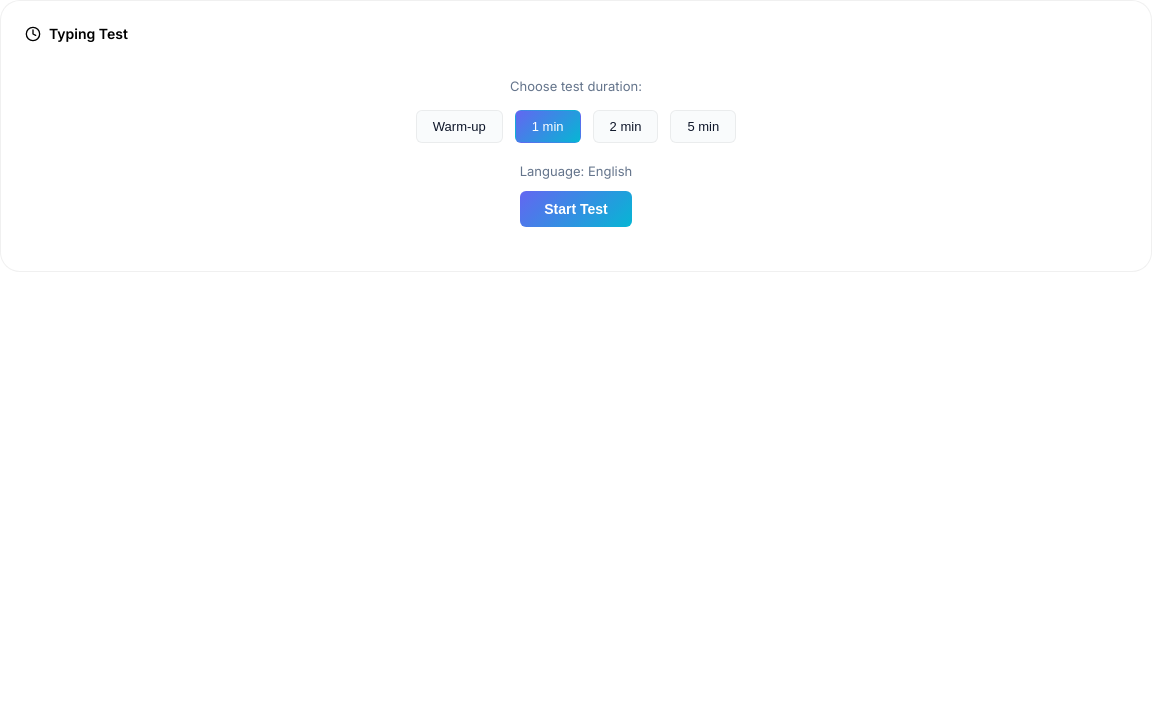
TypingTest Integration › test execution › shows stats bar after starting
The image size is (1152, 720).
Click the button "Start Test": (576, 209) [520, 191, 632, 227]
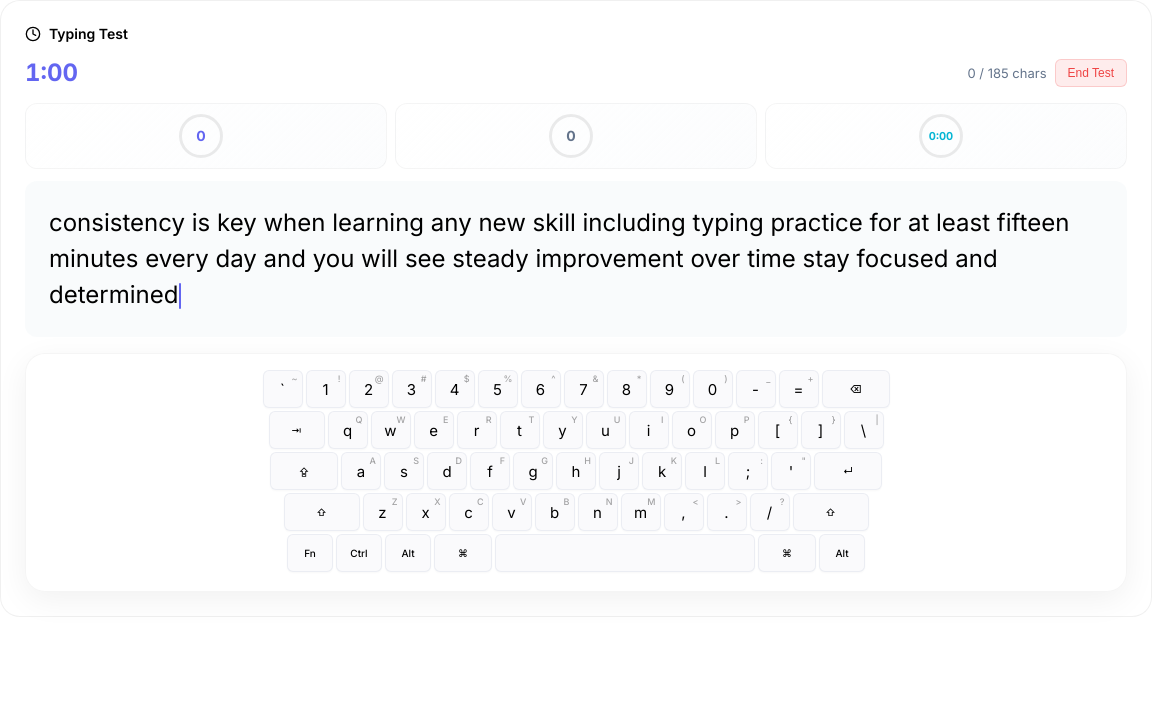
Expected: the 1st text "0" is shown, [196, 129, 206, 143]
